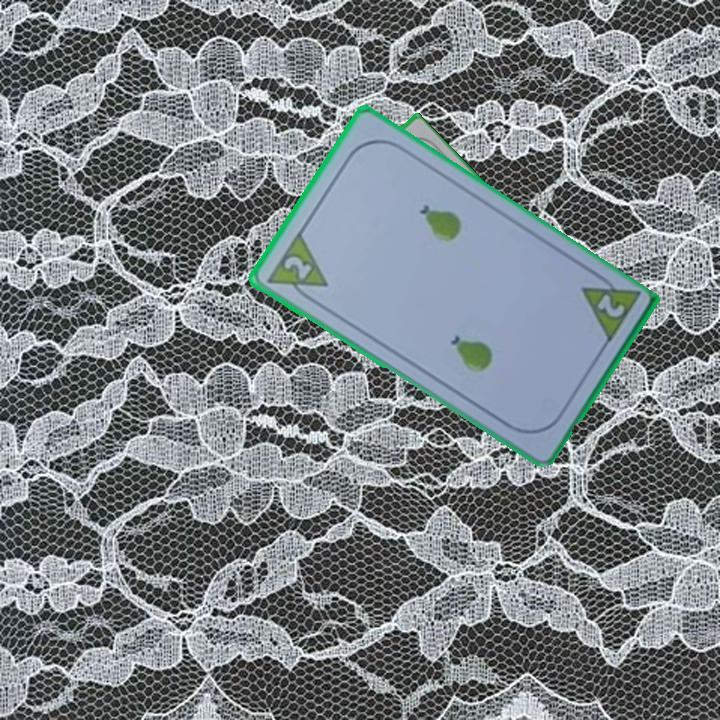2p: (279, 252, 314, 284), (592, 290, 627, 321)
